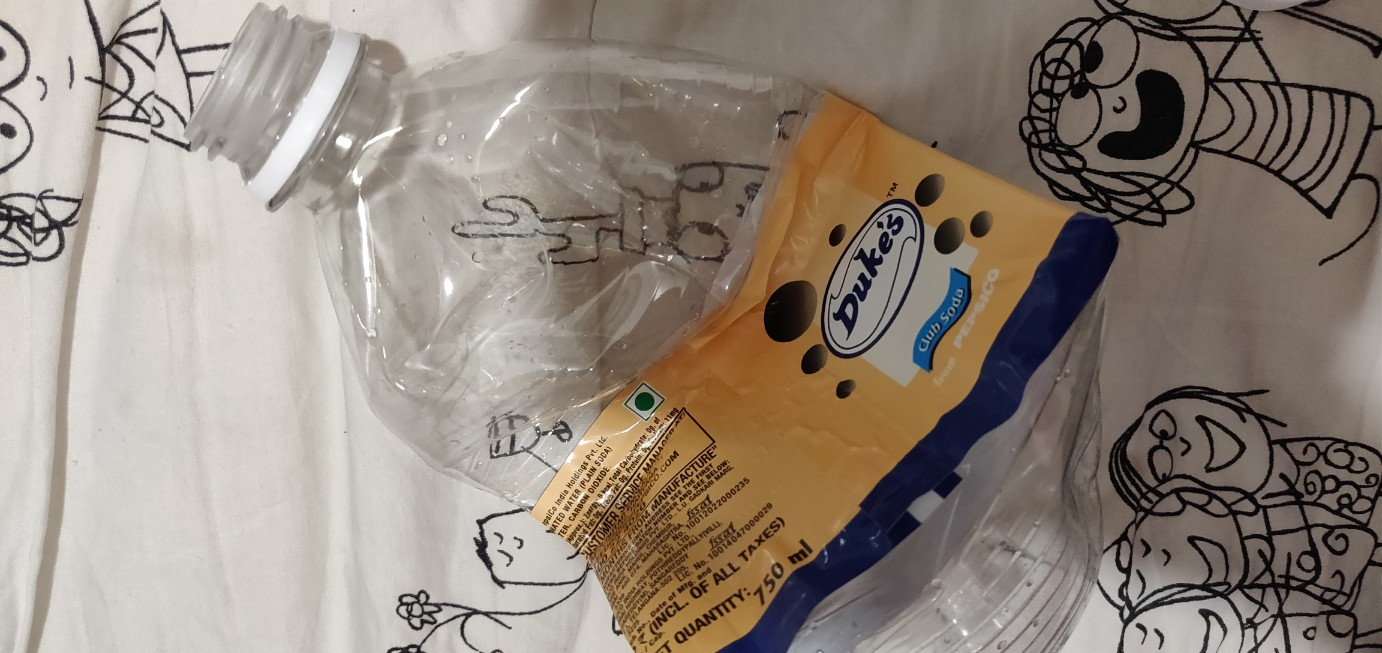Electronics: (172, 1, 1184, 653)
